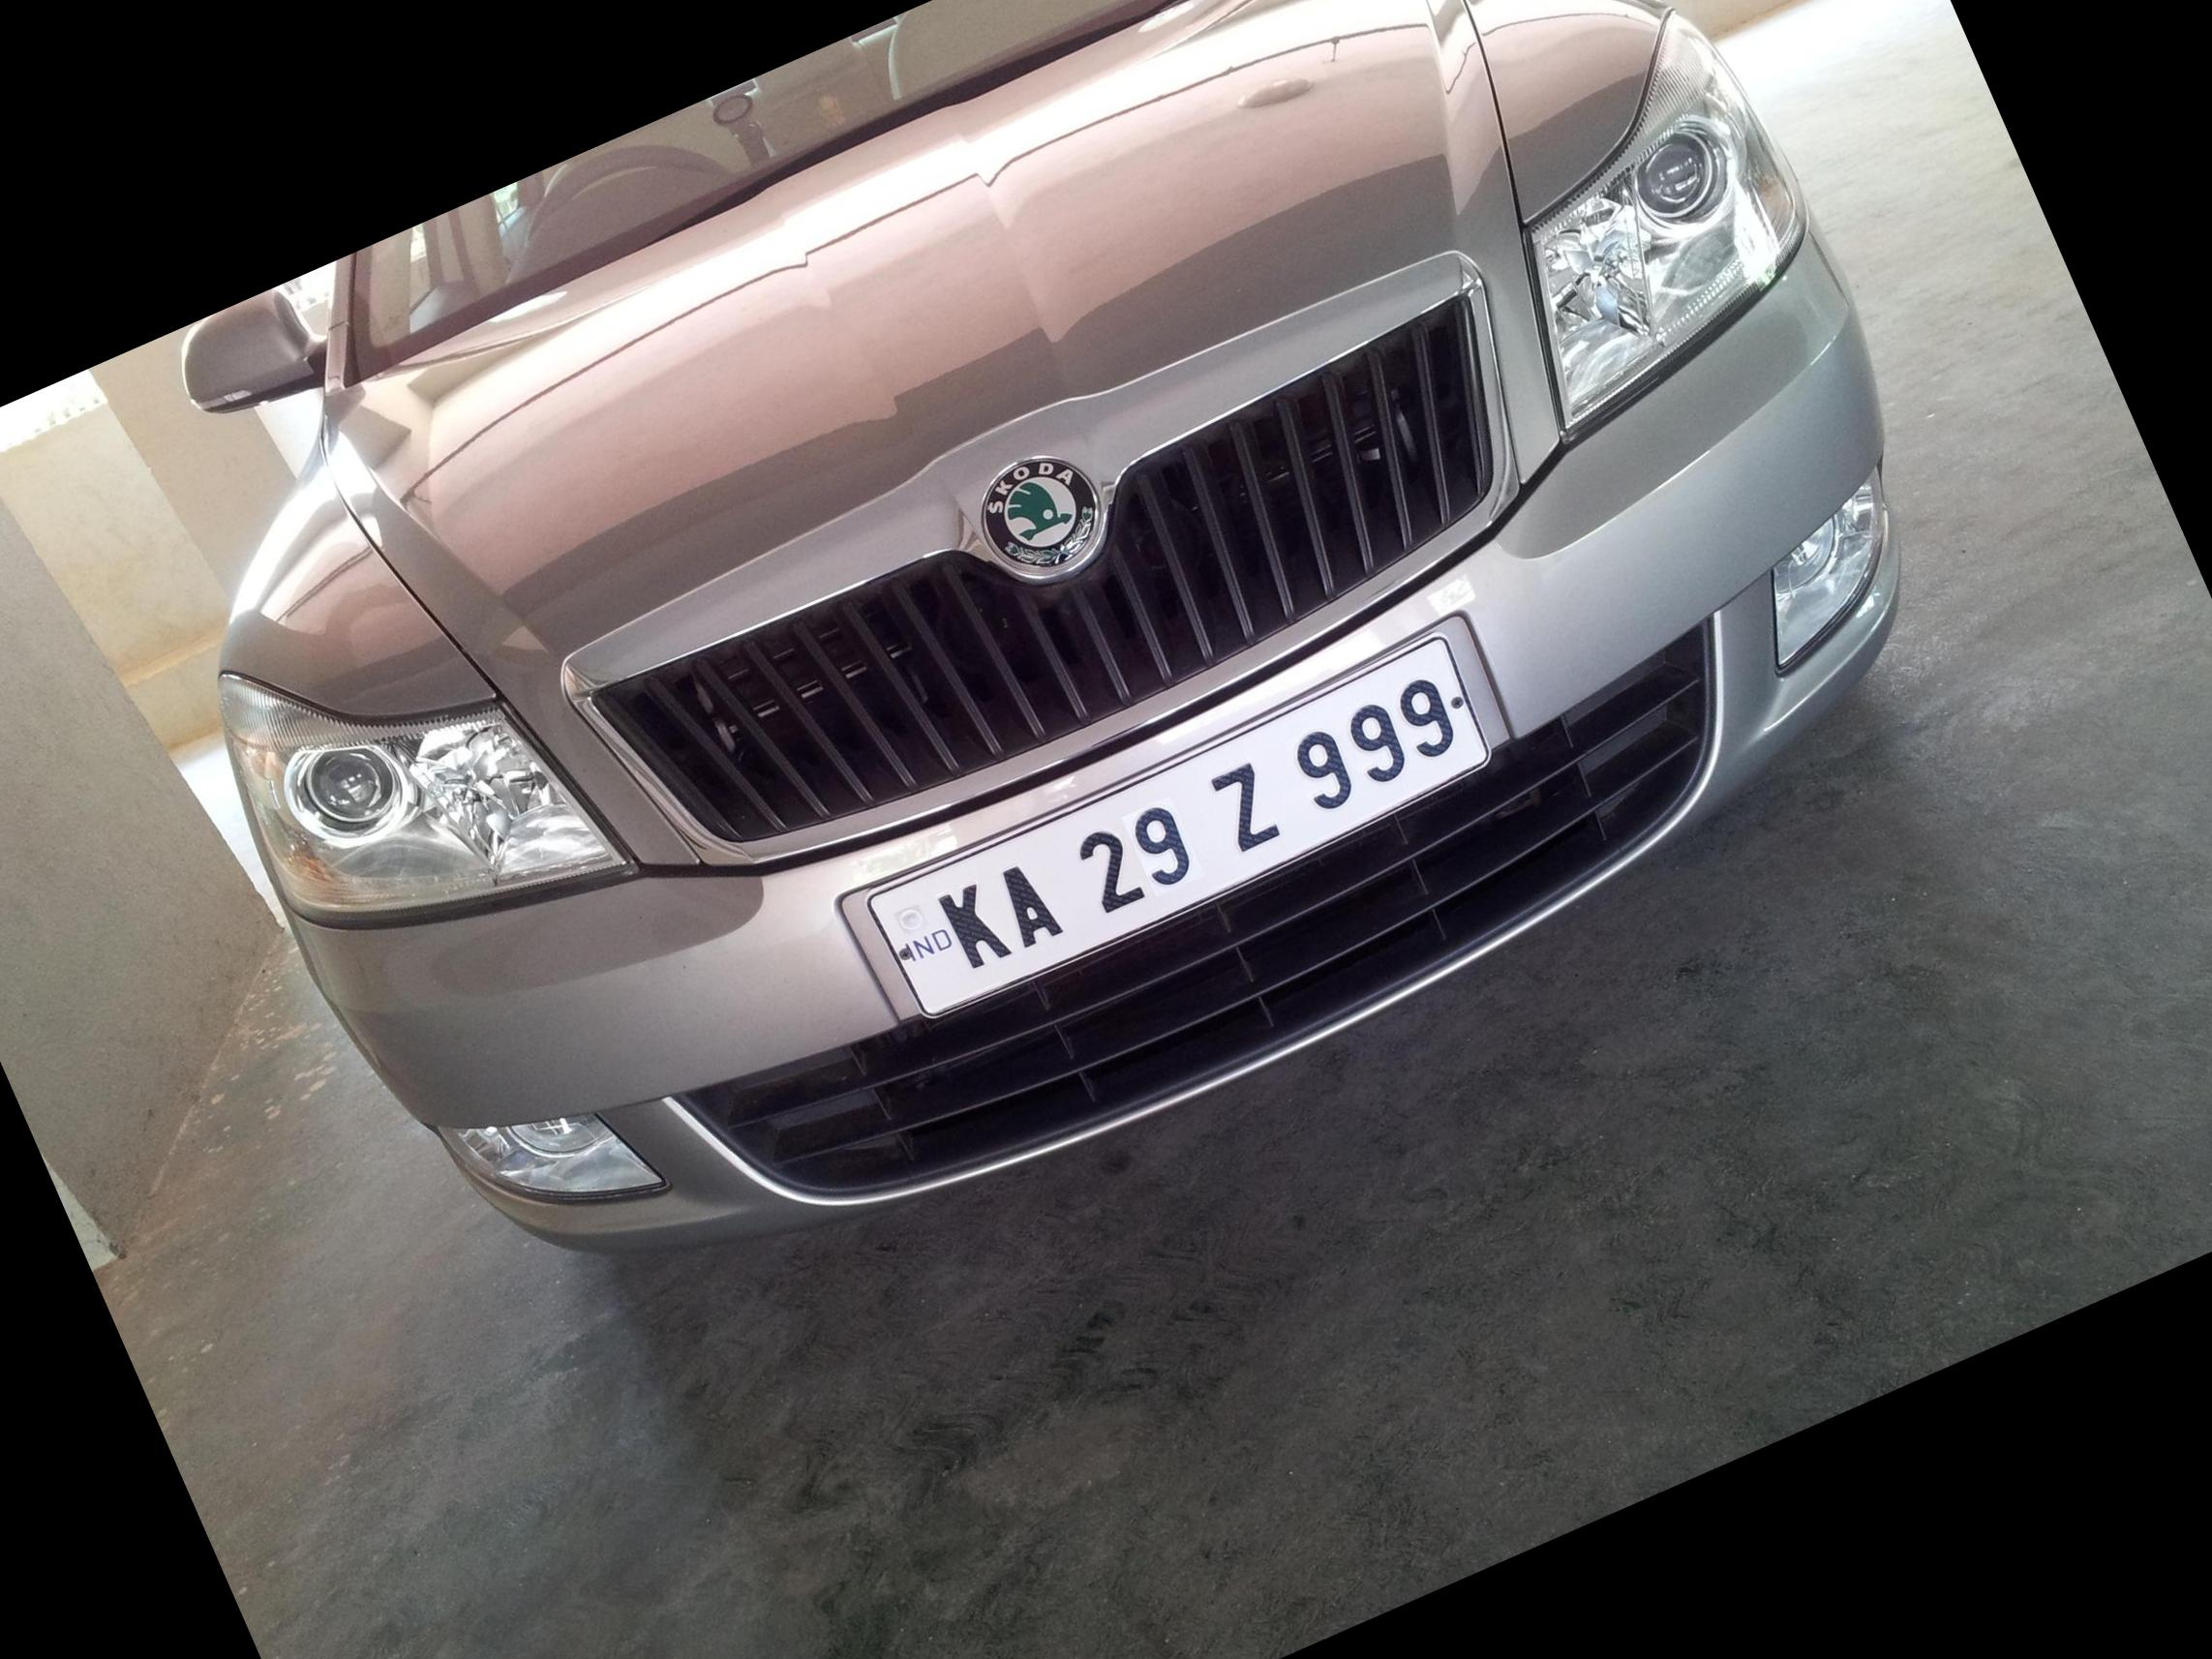plate: (821, 608, 1553, 1054)
